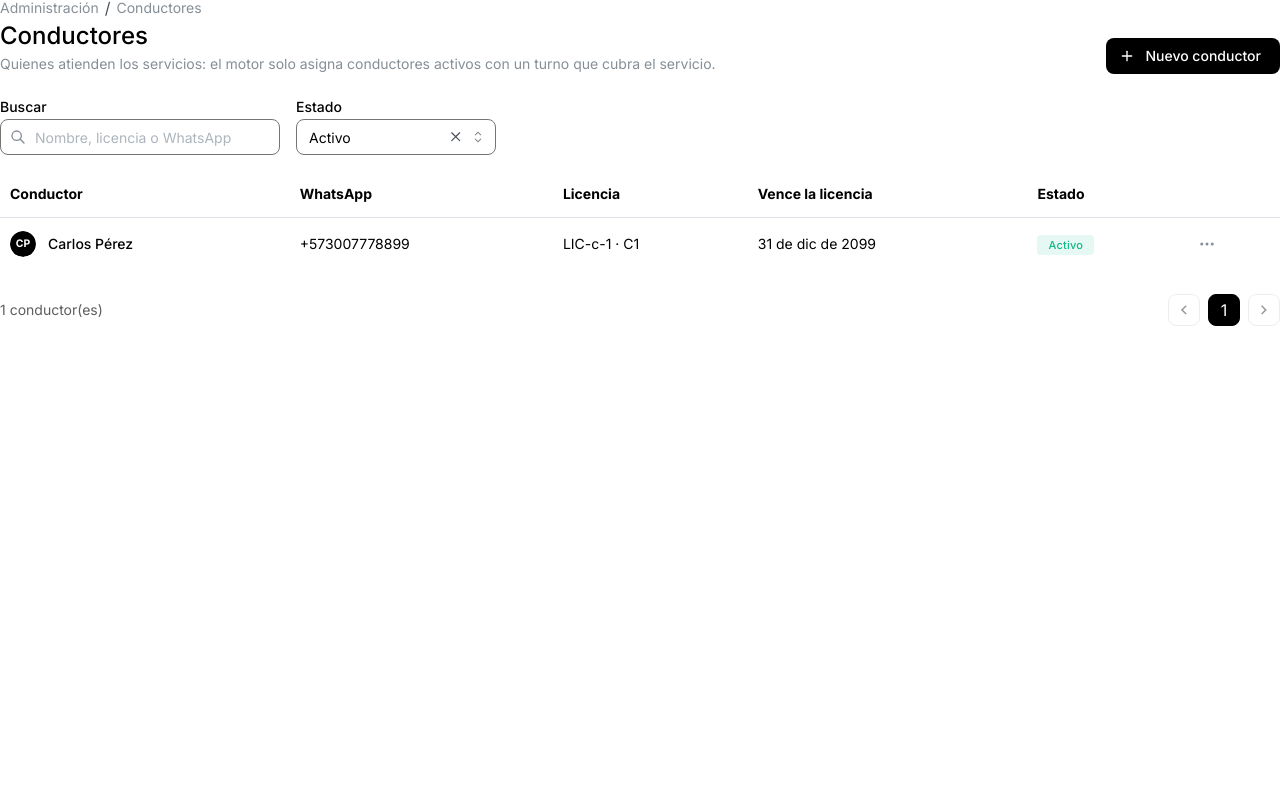
Conductores (RF-07, RF-12, RF-26) › el Administrador cambia el estado de un conductor con confirmación
Click the button named "Acciones de Carlos Pérez": {"x": 1207, "y": 244} [1193,230,1221,258]
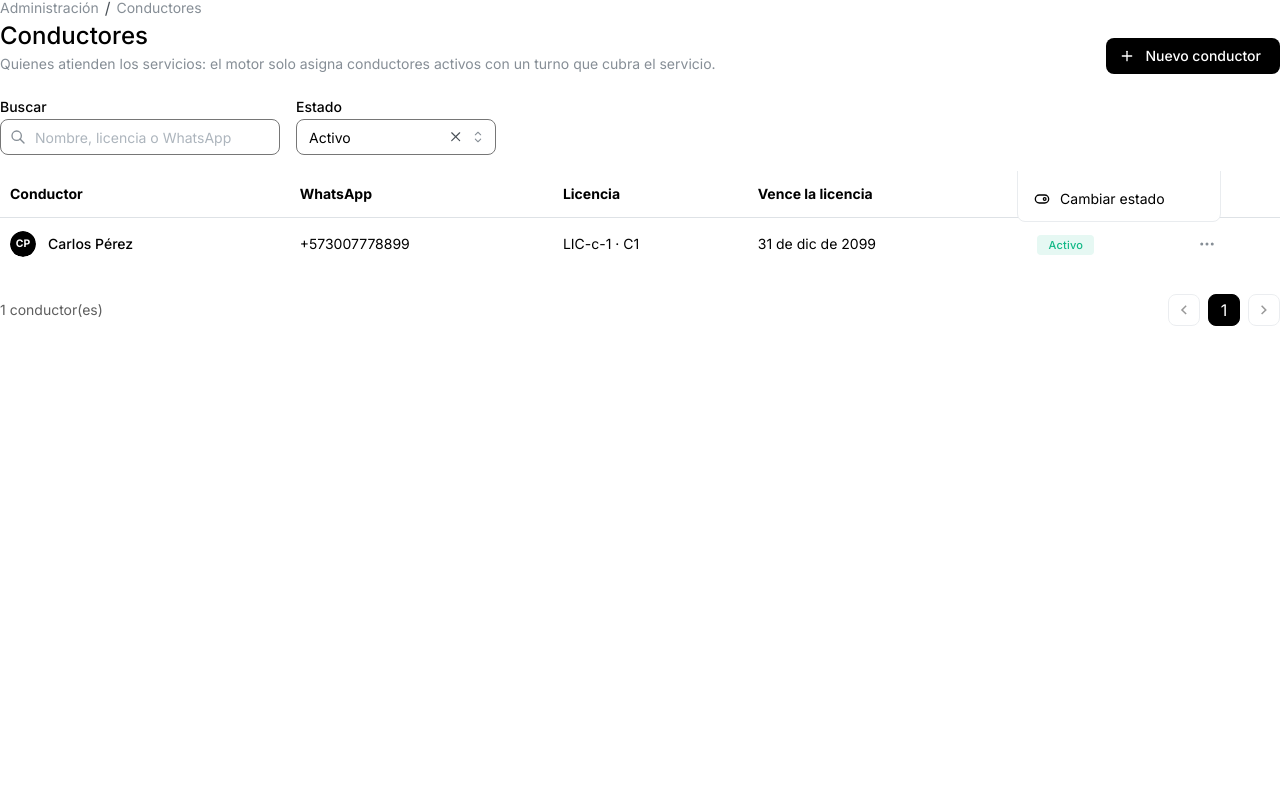
Click the menu item "Cambiar estado": {"x": 1119, "y": 199} [1022,182,1216,217]
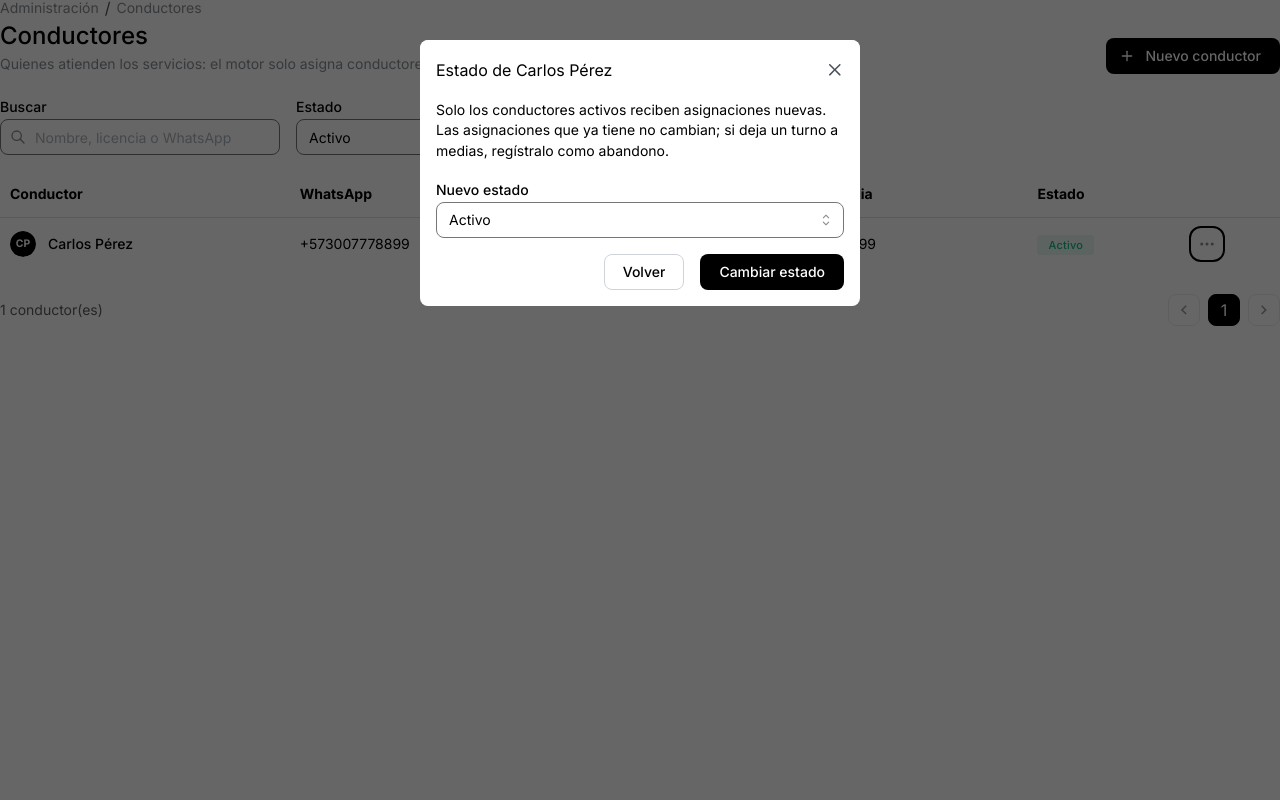
Click the field labelled "Nuevo estado": {"x": 640, "y": 220} [436,202,844,238]
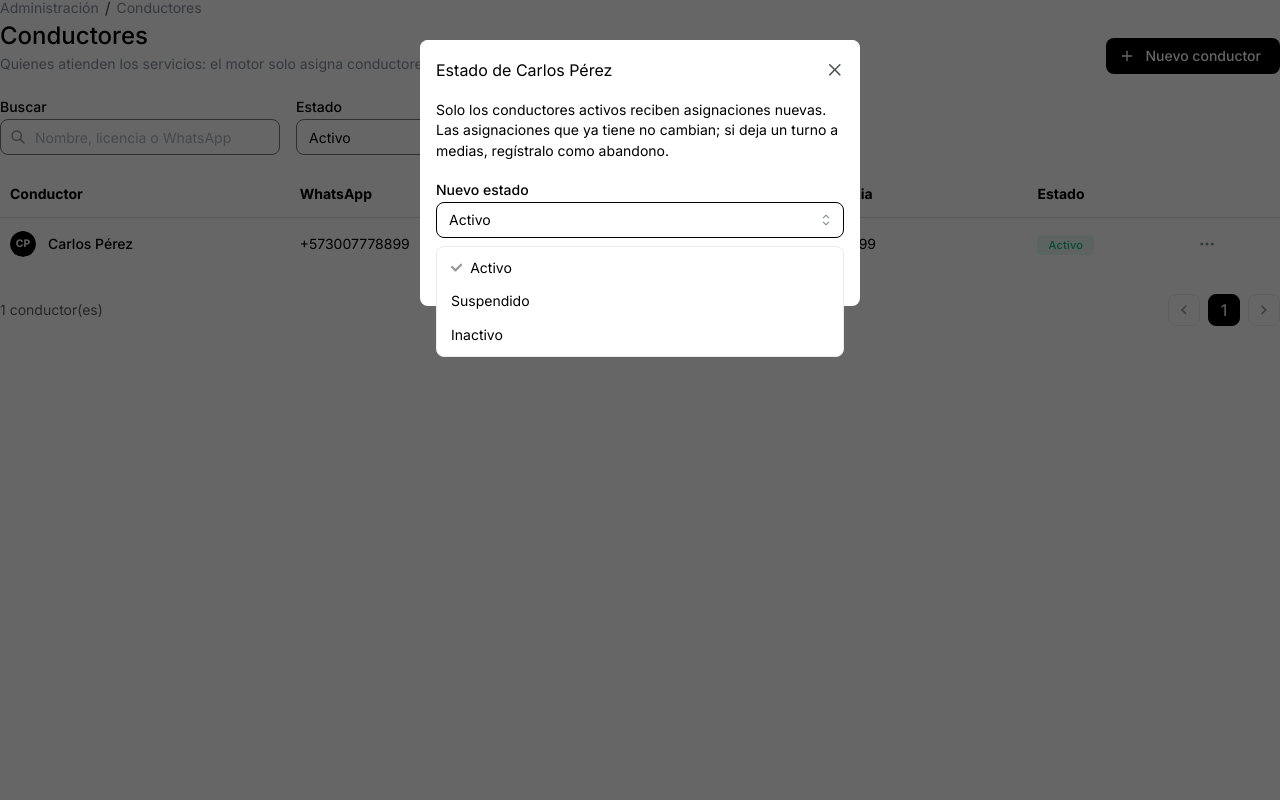
Click the option "Suspendido": {"x": 490, "y": 301} [451,292,530,309]
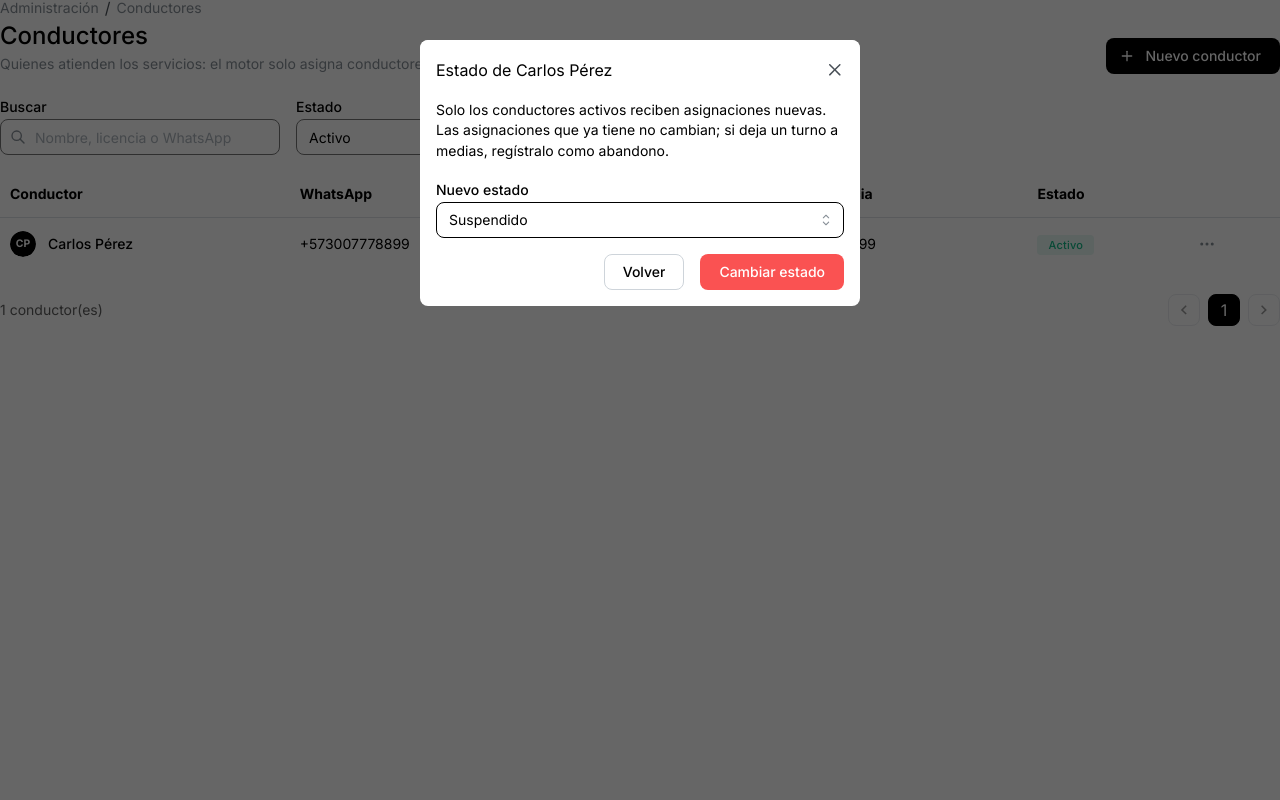
Click the button "Cambiar estado": {"x": 772, "y": 272} [700,254,844,290]
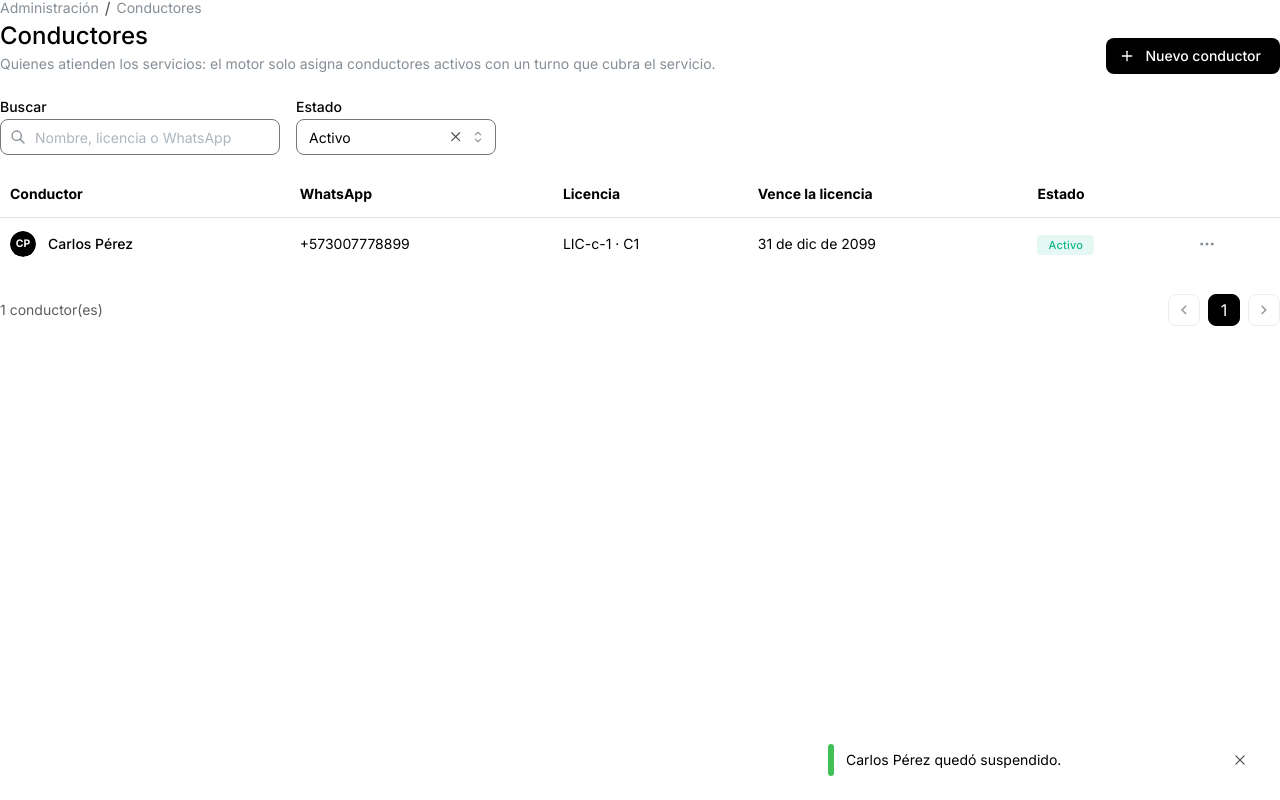
Expected: the text "Carlos Pérez quedó suspendido." is shown, [846,751,1061,768]
